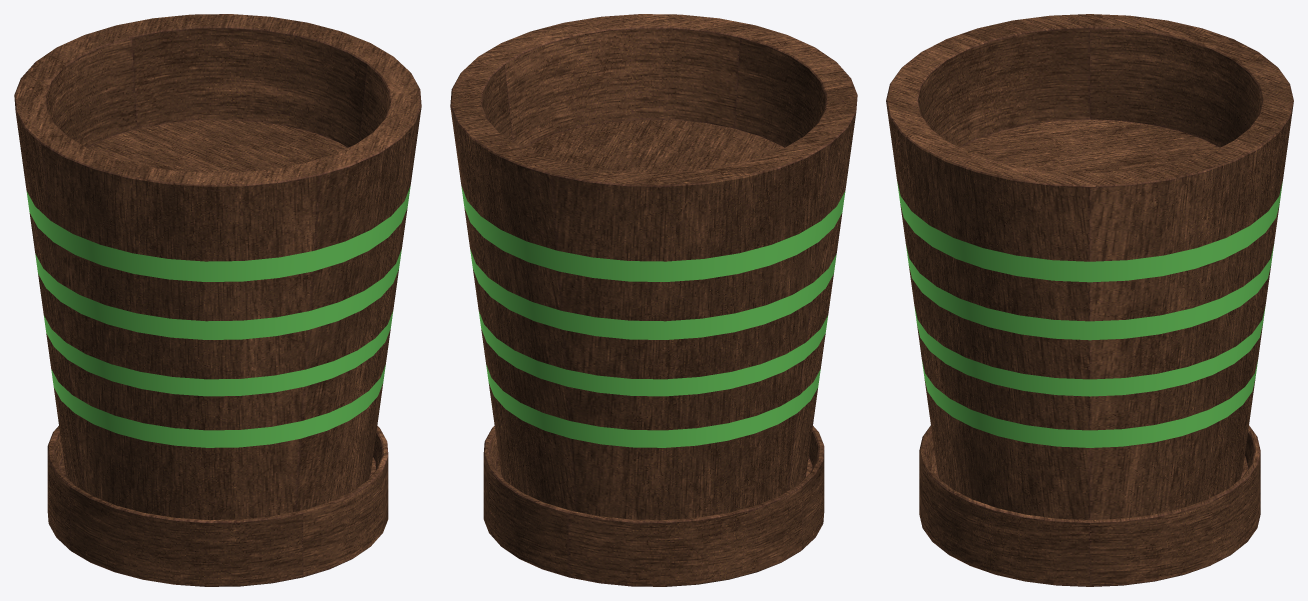
File: donica_paski_zielona.fbx
3 renders of one model, left to right at view 1: azimuth 30°, elevation 25°; view 2: azimuth 150°, elevation 25°; view 3: azimuth 270°, elevation 25°, orthographic.
Visible parts, largest first — view 1: donica; view 2: donica; view 3: donica.
Boxes of the visible parts, left/top/right/bottom form: donica: left=14, top=14, right=421, bottom=586; donica: left=450, top=14, right=857, bottom=586; donica: left=886, top=14, right=1293, bottom=586.
Bounding box in the file's own units: 141 × 162 × 141.
2 materials, 1 textured.
